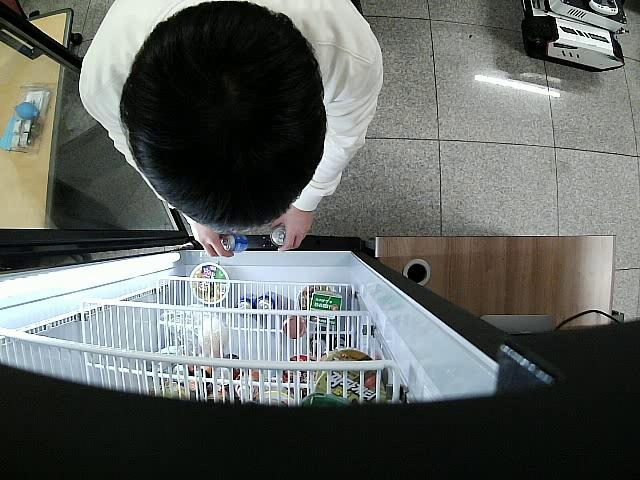00_hand: (269, 208, 314, 253), (189, 222, 234, 257)
15_letsbe: (216, 231, 249, 255), (269, 222, 286, 246)
